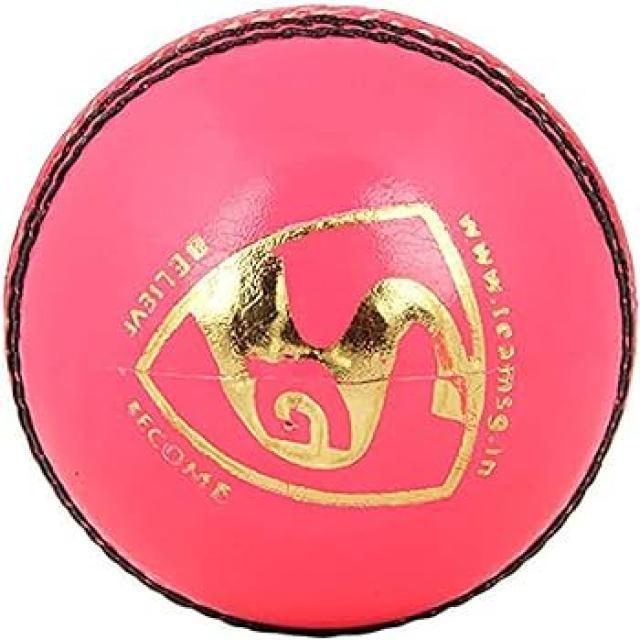cricket ball: (2, 4, 638, 638)
